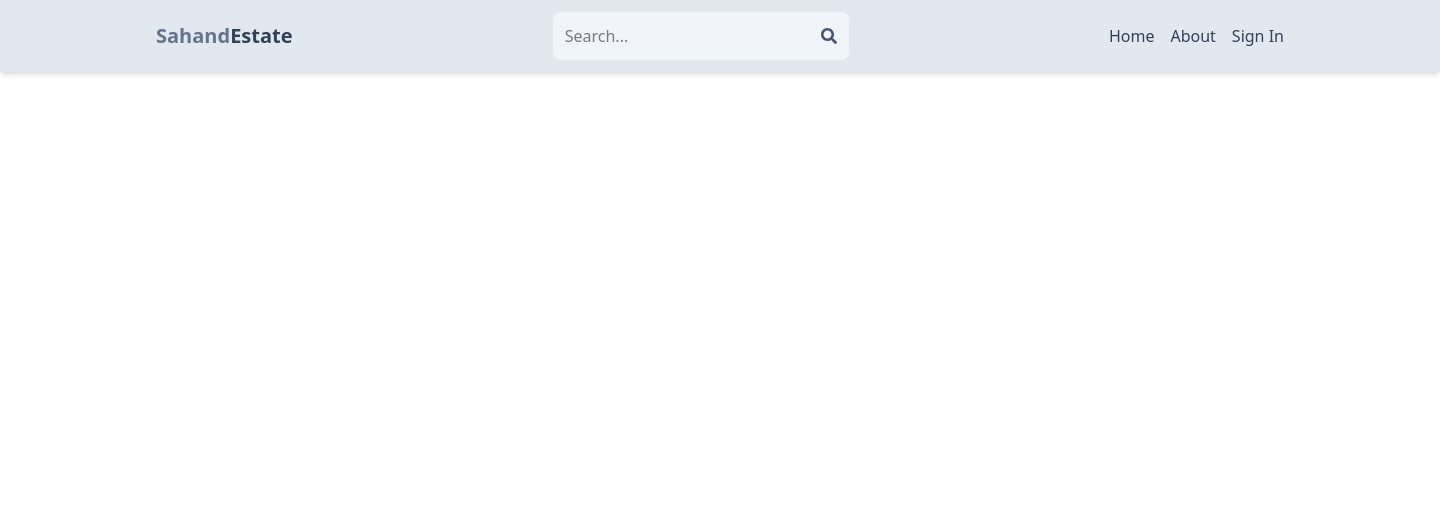
Test: Sign Up Page Integration › should show error message with API failure
// Navigate to signin page first
Click the link "Sign In" at (1258,36), box [1232,24,1284,48]
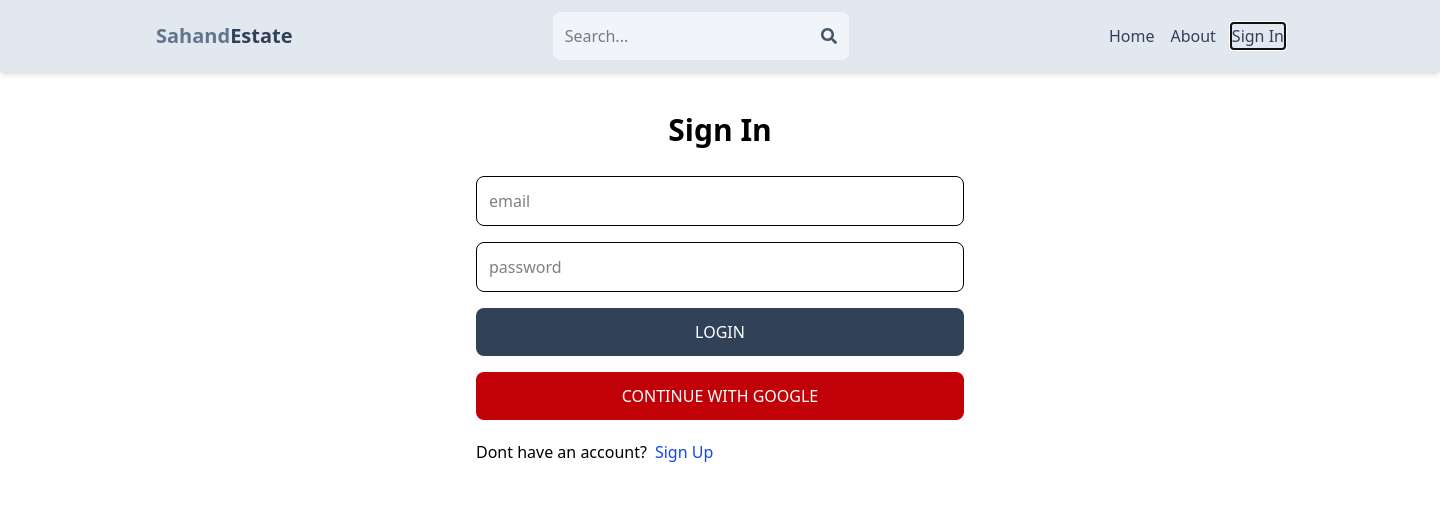
// Navigate to signup page
Click the link "Sign Up" at (684,452), box [655,440,713,464]
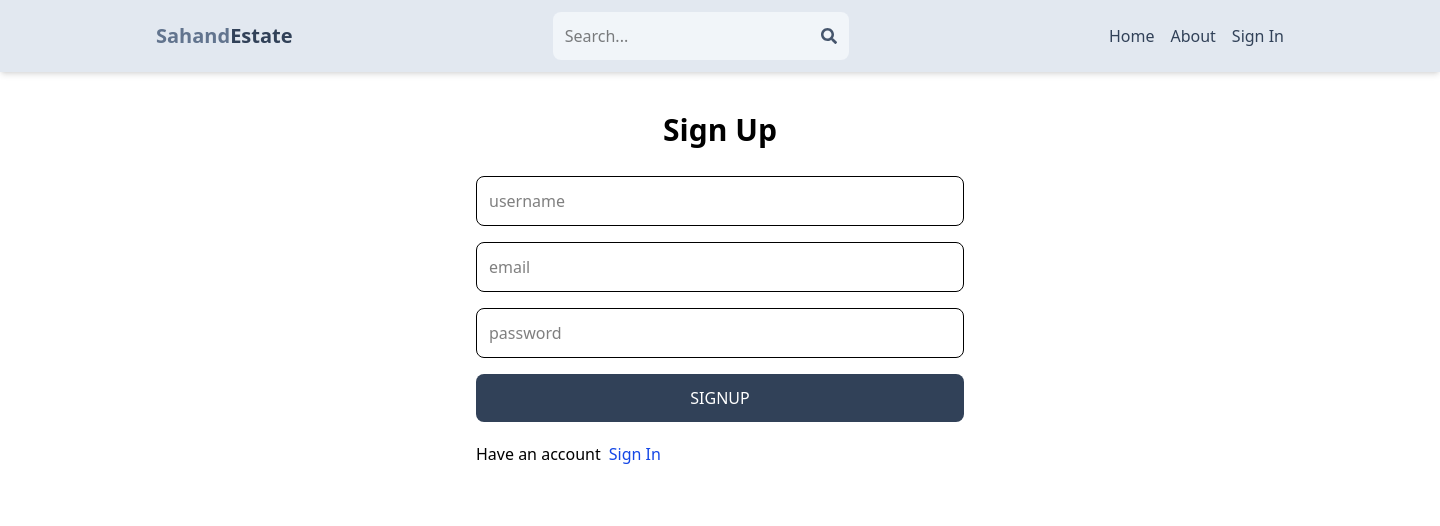
// Fill out input
Type "DuplicateUsername" into the field with placeholder "username" at (720,201), box [476,176,964,226]
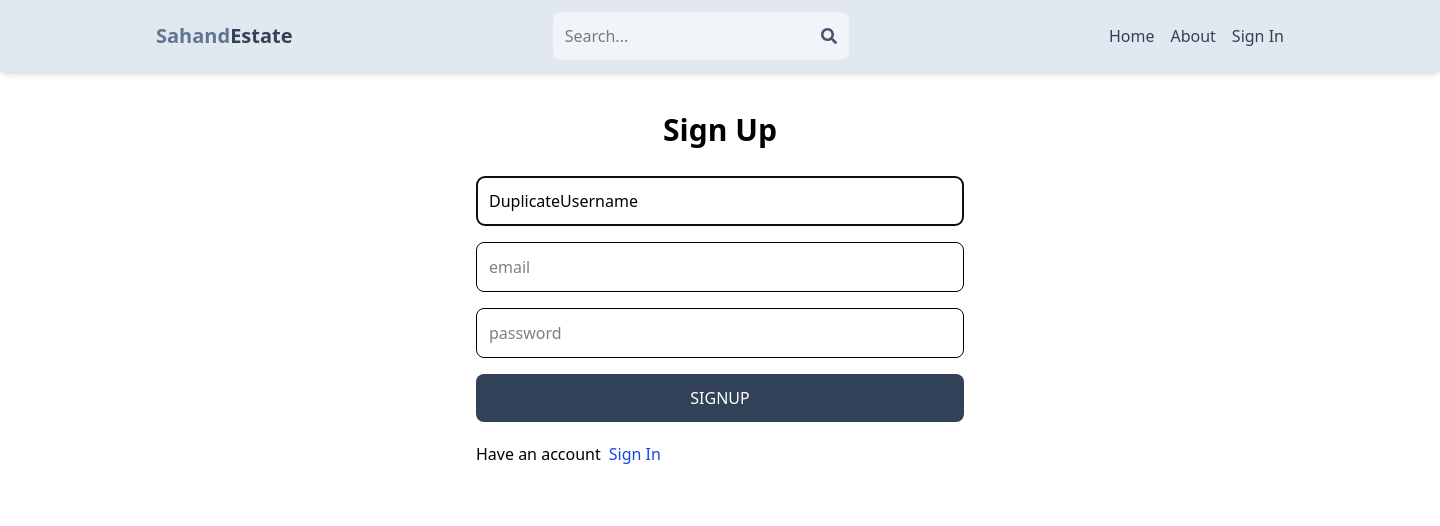
Type "test@email.com" into the field with placeholder "email" at (720,267), box [476,242,964,292]
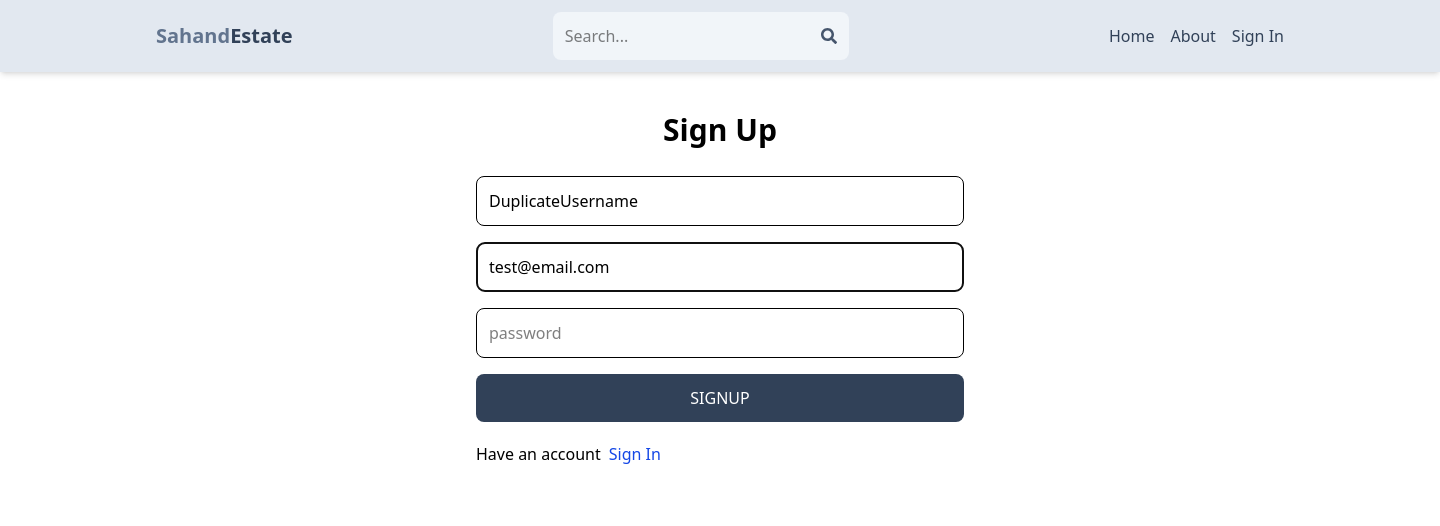
Type "testPassword" into the password field with placeholder "password" at (720,333), box [476,308,964,358]
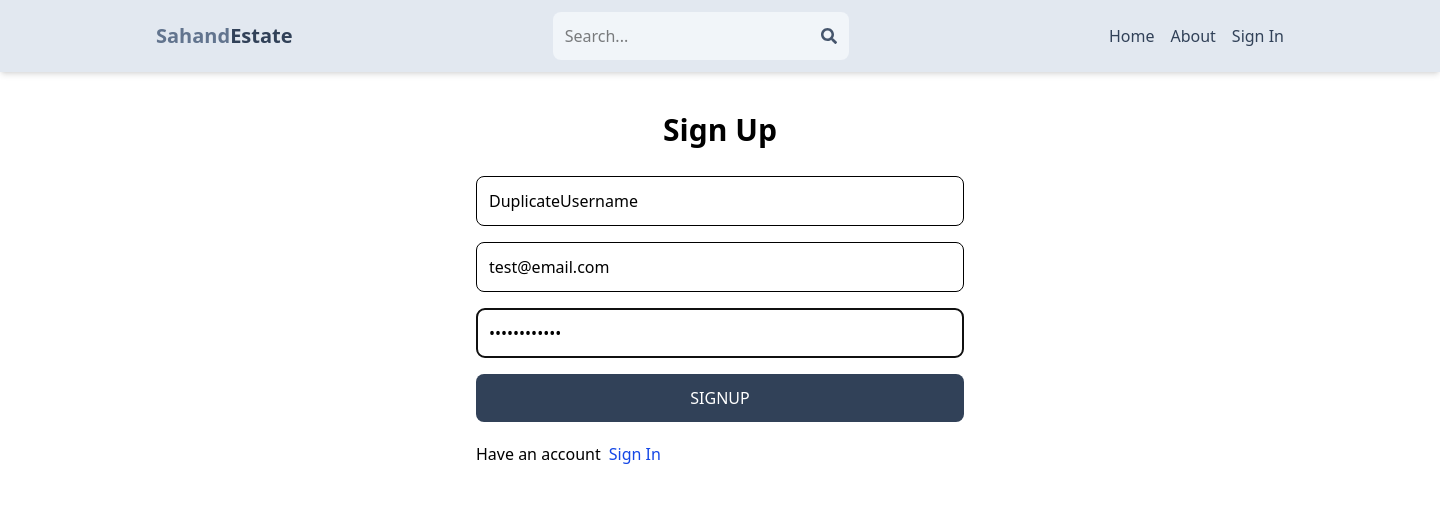
// Submit the form
Click the button "Signup" at (720,398), box [476,374,964,422]
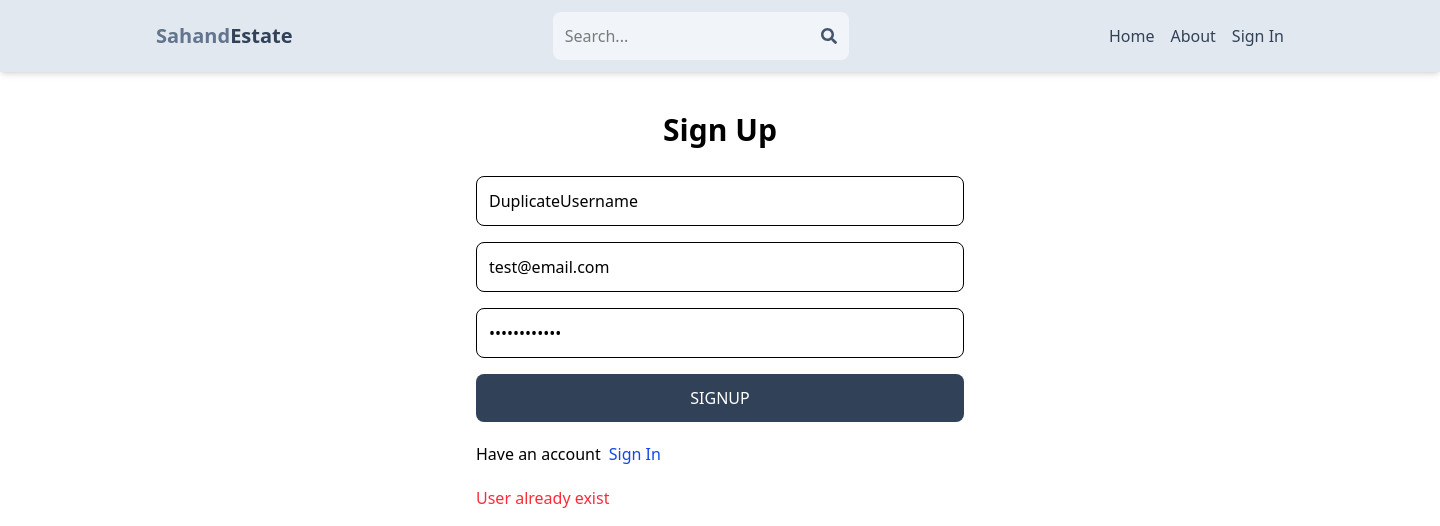
Check: the text "User already exist" is shown, box [476,487,610,509]
